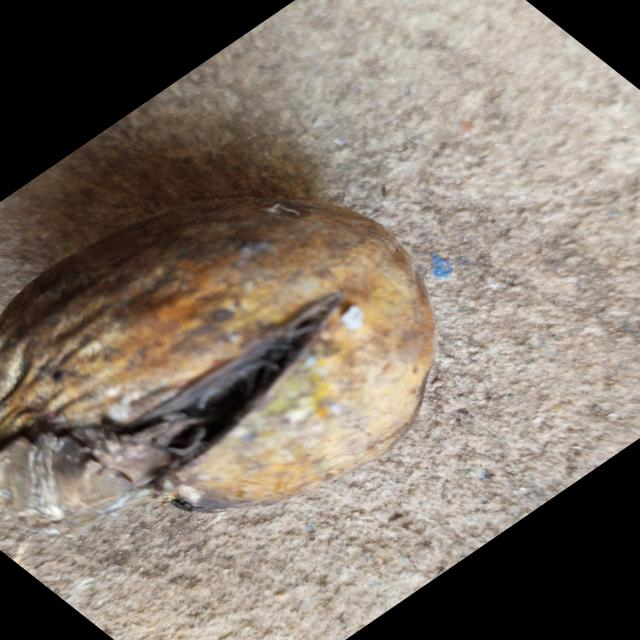damaged: (0, 198, 434, 524)
